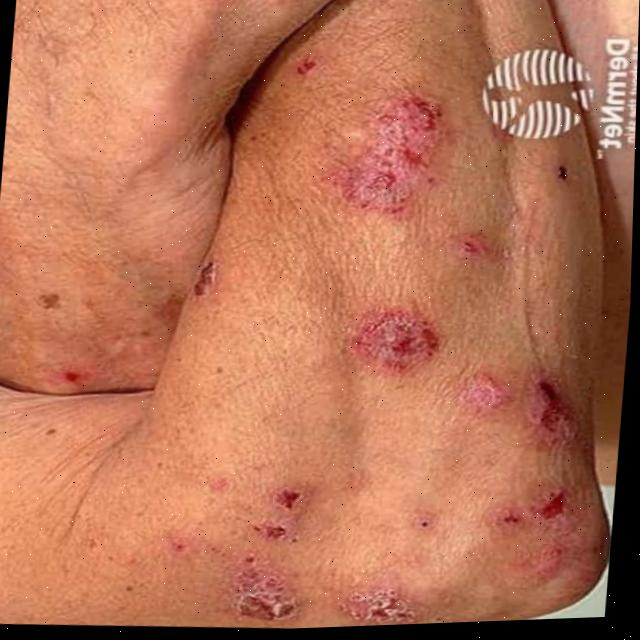Eczema: (221, 482, 326, 631), (326, 119, 432, 230), (361, 306, 437, 361), (347, 575, 412, 626), (528, 487, 587, 534), (525, 383, 571, 432), (467, 389, 503, 407)
